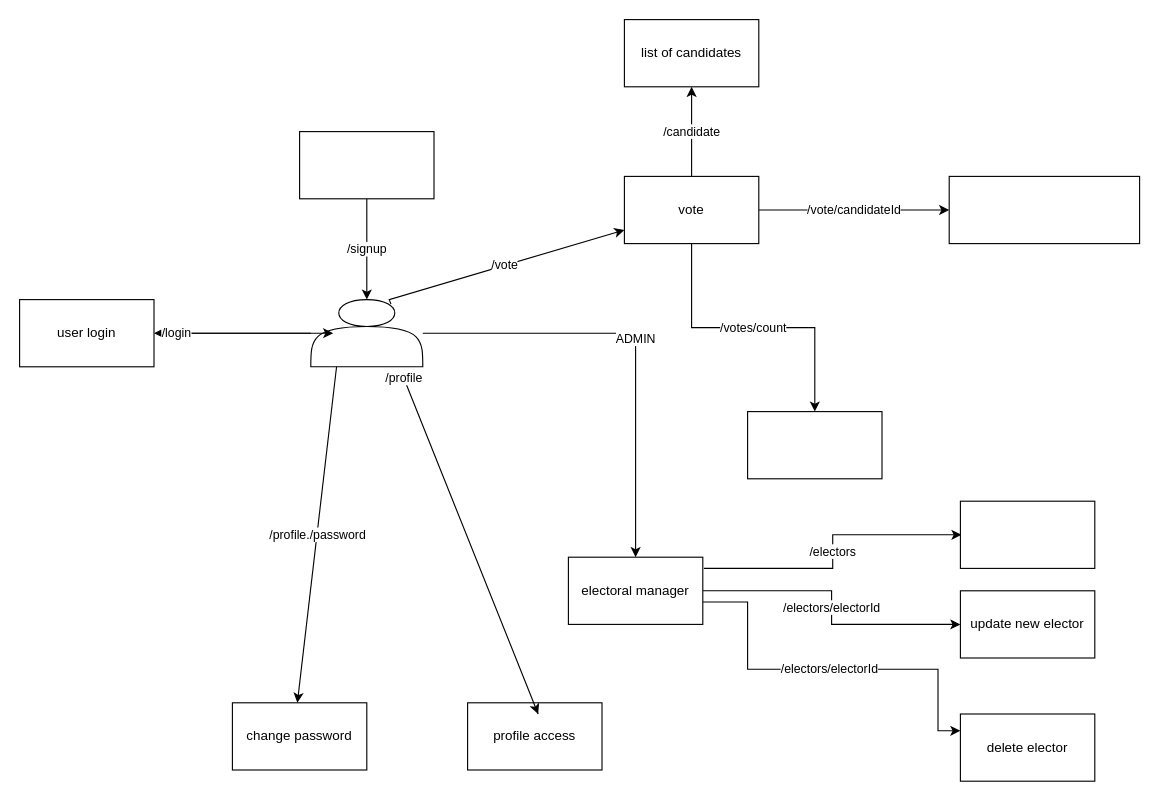
This 1159x801 diagram has some shape labels left out. Each missing label, with the centre of its shape:
count of votes: point 814,444
create new elector: point 1027,534
create user: point 366,164
voters give vote to the candidate: point 1044,209
